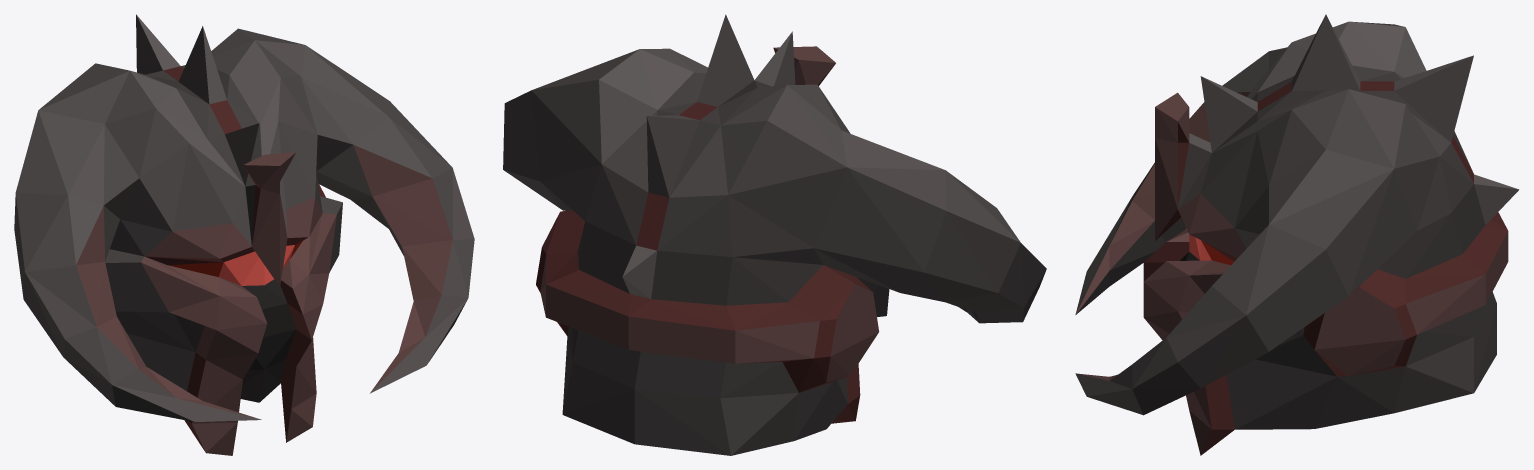
File: Zuk Helm.glb
The picture shows the model from 3 angles, left to right: view 1: azimuth 30°, elevation 25°; view 2: azimuth 150°, elevation 25°; view 3: azimuth 270°, elevation 25°; orthographic projection. The views are drawn at different scales.
Parts seen in each view (by area): view 1: lava, Mesh_0; view 2: Mesh_0, lava; view 3: Mesh_0, lava.
Part boxes in pixels (box(x1,y1,x2,y2)): lava: box(38, 29, 452, 455); Mesh_0: box(14, 14, 474, 421); Mesh_0: box(503, 14, 1046, 455); lava: box(531, 46, 879, 420); Mesh_0: box(1075, 14, 1519, 429); lava: box(1109, 21, 1508, 455).
Bounding box in the file's own units: 0.6313 × 0.5392 × 0.5129.
1 material, 1 textured.
